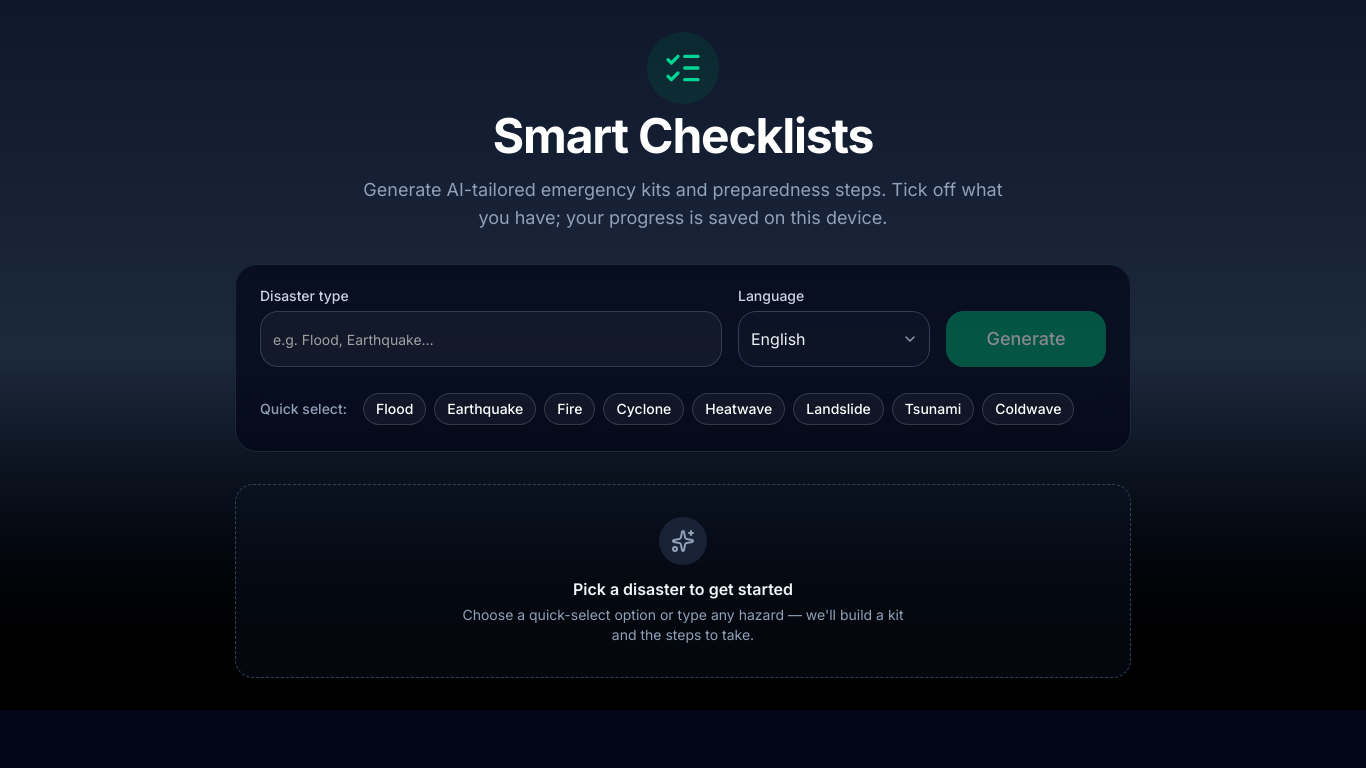
Test: ChecklistView › shows an empty state when the backend returns no items
Step 1. Click the button "Fire" → {"x": 570, "y": 409}, box x1=544 y1=393 x2=596 y2=425
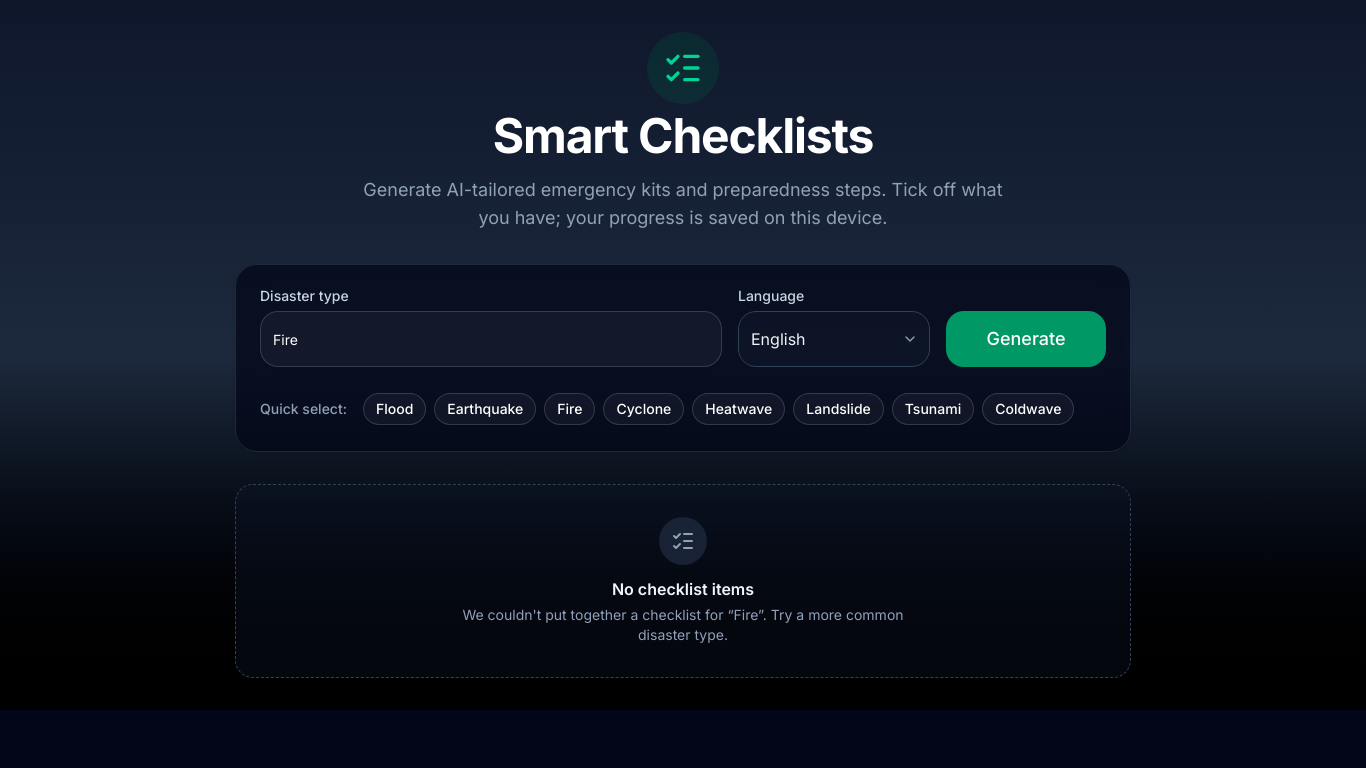
Result: the text "No checklist items" is shown at x1=612 y1=579 x2=754 y2=599
